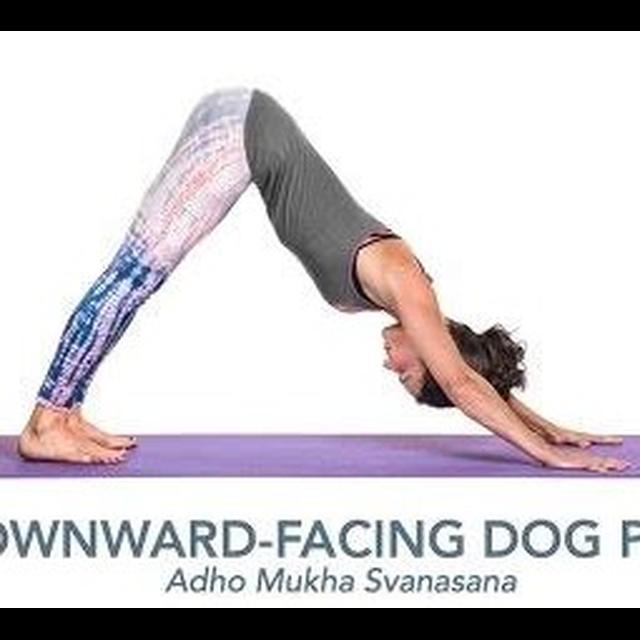Downward-Facing_Dog: (12, 79, 637, 480)
